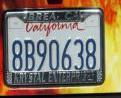0: (48, 40, 60, 71)
3: (73, 38, 84, 70)
6: (61, 39, 72, 70)
8: (85, 38, 97, 70), (11, 39, 23, 71)
9: (35, 39, 47, 72)
B: (23, 38, 36, 72)
